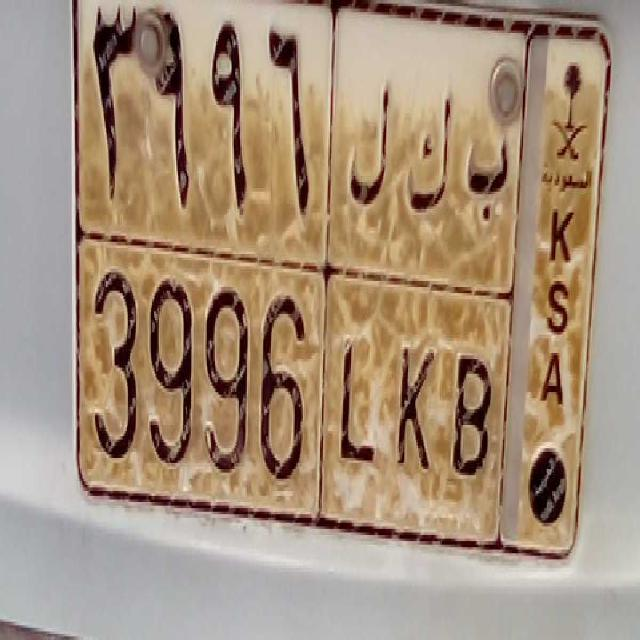license_plate: (84, 236, 498, 554)
